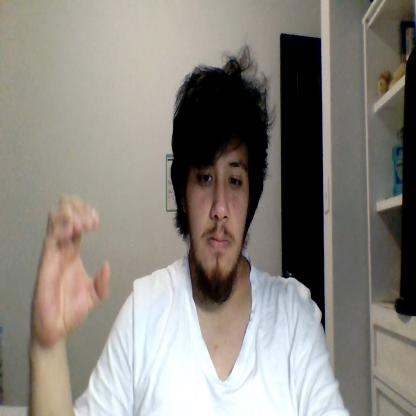C: (31, 192, 110, 343)
